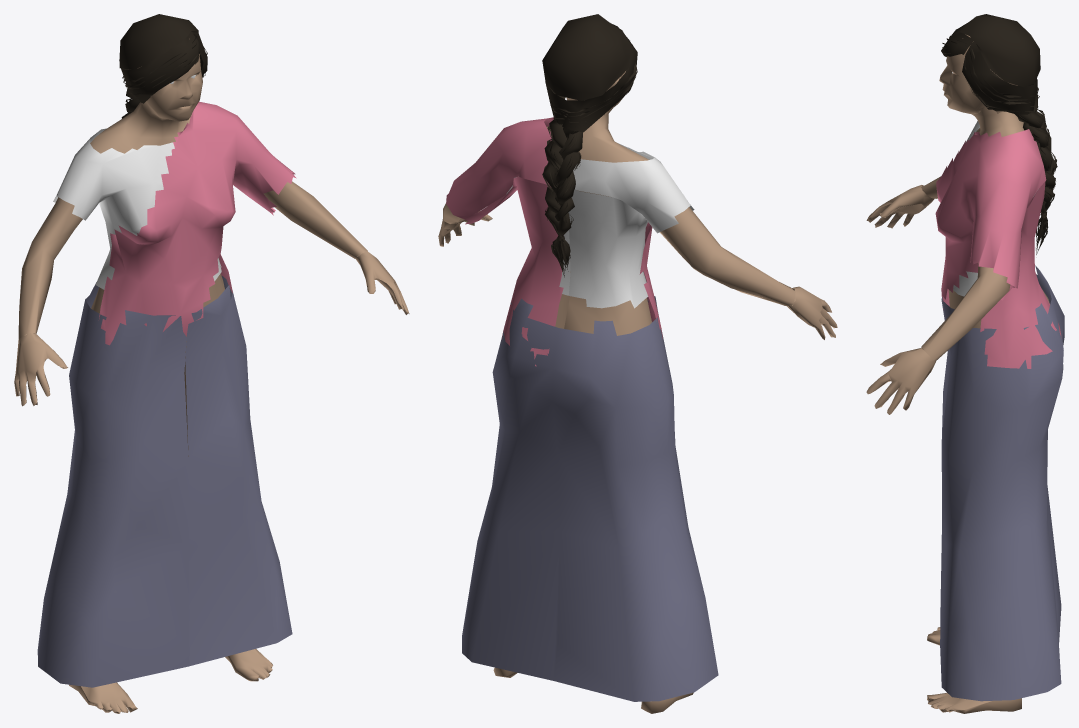
The model's file is woman_05.glb.
The picture shows the model from 3 angles, left to right: view 1: azimuth 30°, elevation 25°; view 2: azimuth 150°, elevation 25°; view 3: azimuth 270°, elevation 25°; orthographic projection.
Parts seen in each view (by area): view 1: crowd; view 2: crowd; view 3: crowd.
Boxes of the visible parts, box(x1,y1,x2,y2) form: crowd: box(14, 14, 409, 713); crowd: box(438, 14, 837, 713); crowd: box(866, 14, 1064, 713).
Size of the model in its own units: 0.9724 by 1.59 by 0.4348.
